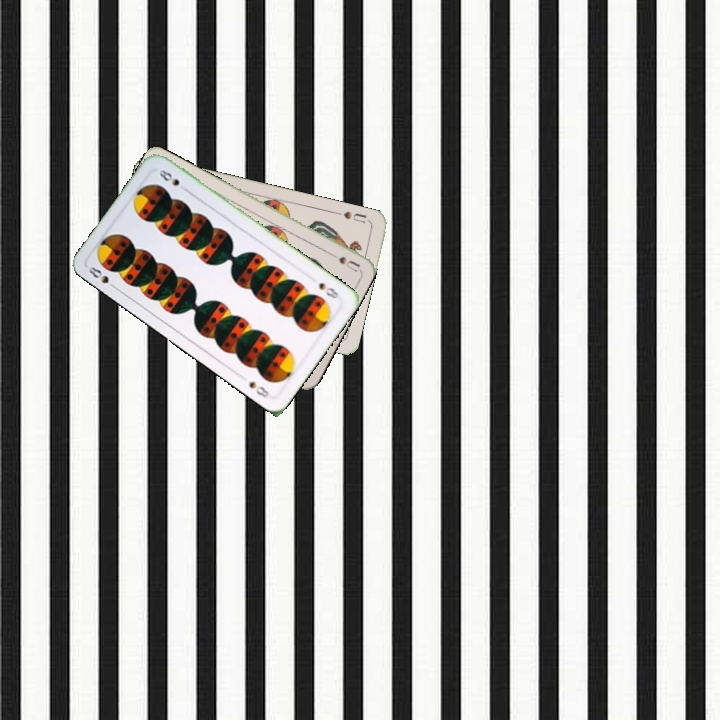S8: (84, 262, 120, 292), (315, 278, 342, 301)
SU: (323, 247, 362, 274), (332, 207, 372, 226)
